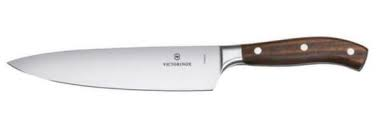knife: (6, 35, 369, 92)
